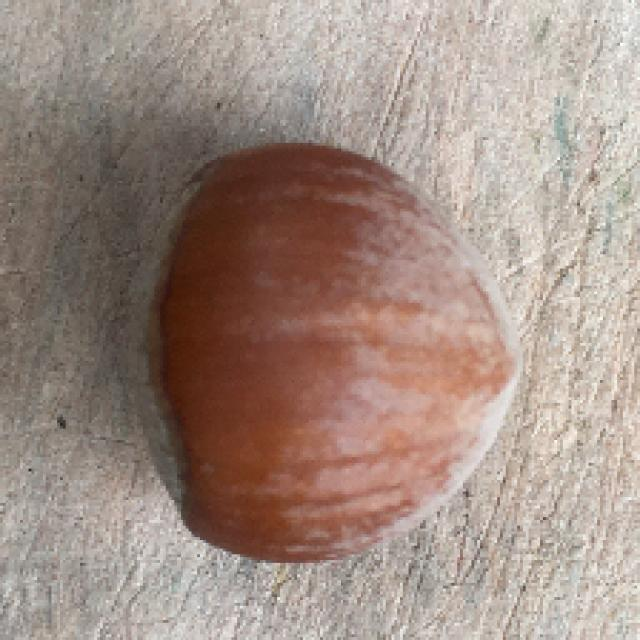qualityHazelnut: (112, 134, 528, 578)
